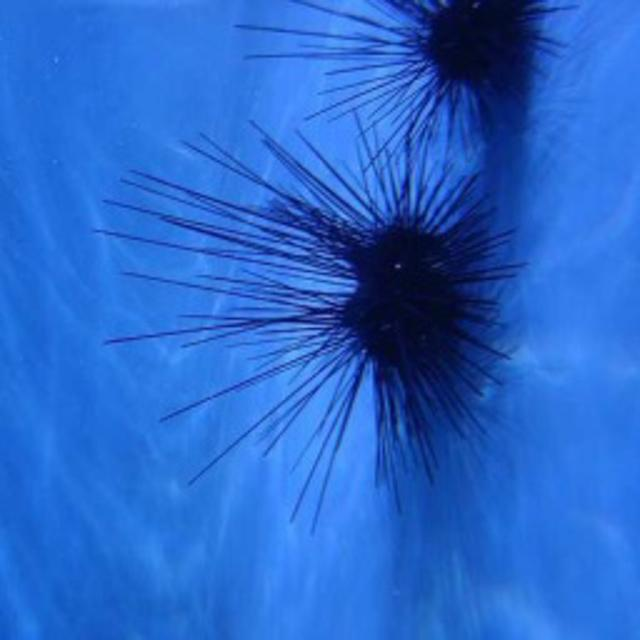Urchin: (99, 111, 538, 516), (227, 1, 574, 145)
